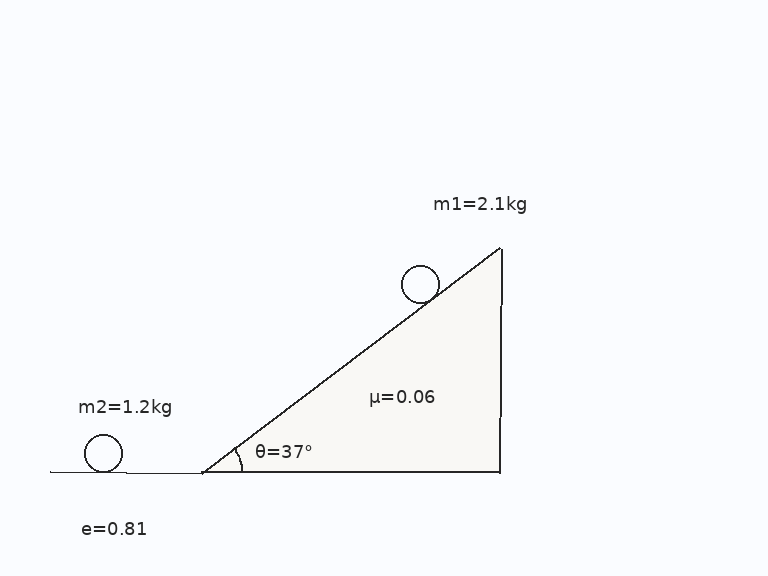ball: (399, 263, 441, 305), (82, 432, 124, 474)
ramp: (200, 246, 502, 474)
